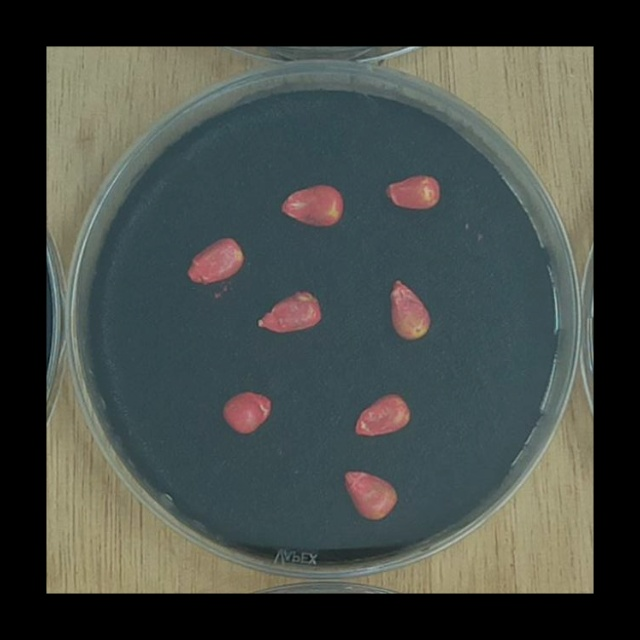Zea mays: (337, 461, 404, 526), (179, 230, 249, 290), (251, 284, 327, 337), (274, 178, 349, 231), (384, 271, 437, 345), (348, 388, 415, 443), (217, 384, 277, 439), (378, 167, 445, 216)
